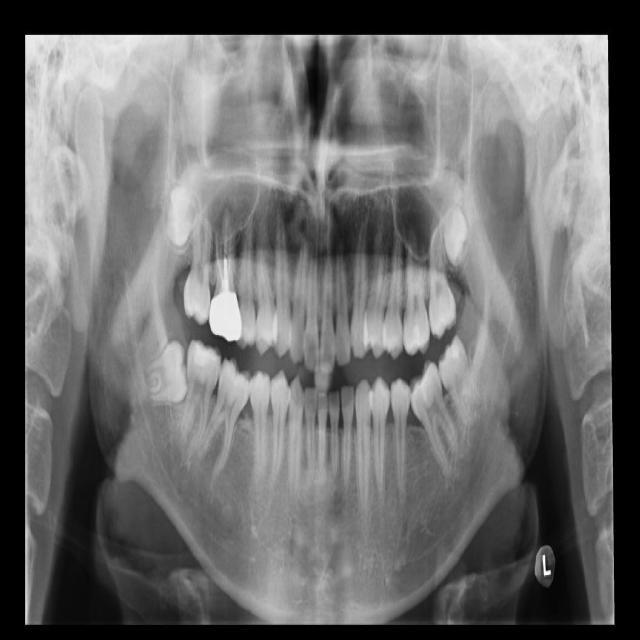3M ESPE Implant: (163, 184, 204, 249)
52: (205, 290, 245, 345)
73: (212, 207, 237, 300), (630, 620, 638, 628)
BioHorizons Implant: (422, 214, 459, 338)
BioLife Implant: (437, 205, 475, 268)
Blue Sky Bio Implant: (428, 334, 492, 434)
Caries: (183, 201, 214, 324)
Implant: (176, 339, 223, 458)
Keystone Dental Implant: (141, 339, 192, 406)
